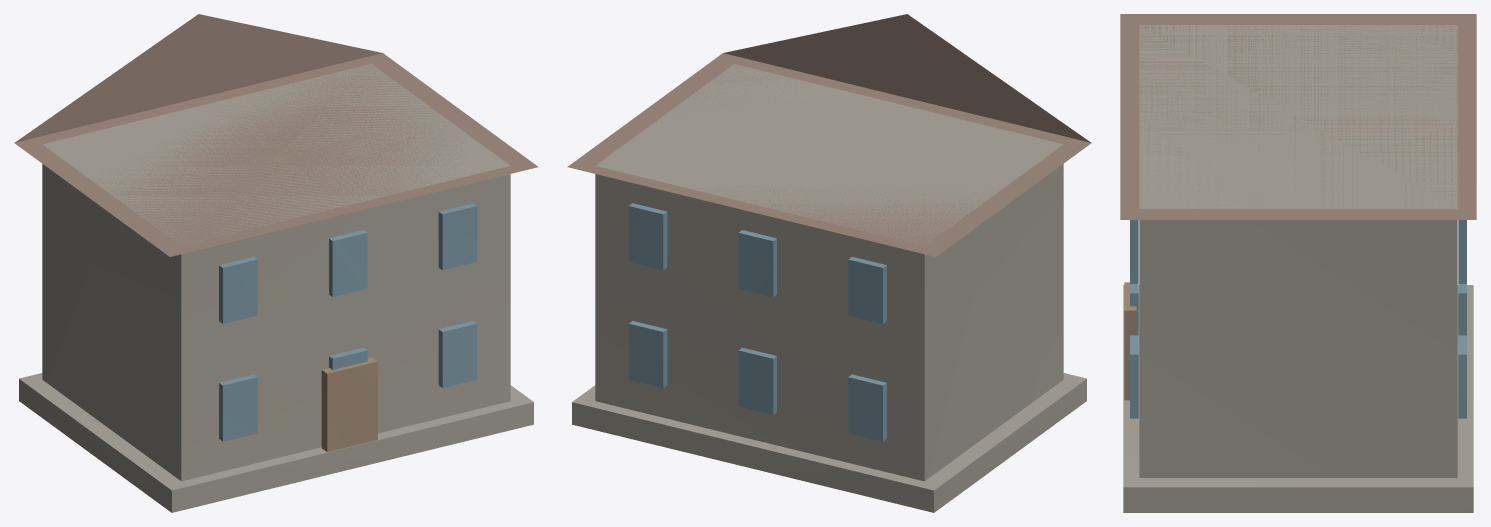
Rendered from townhouse-01.glb.
3 renders of one model, left to right at view 1: azimuth 30°, elevation 25°; view 2: azimuth 150°, elevation 25°; view 3: azimuth 270°, elevation 25°, orthographic. The views are drawn at different scales.
Visible parts, largest first — view 1: world; view 2: world; view 3: world.
Part boxes in pixels (bbox=[...]): world: bbox=[14, 14, 538, 512]; world: bbox=[567, 14, 1091, 512]; world: bbox=[1120, 14, 1476, 512].
Bounding box in the file's own units: 1.38 × 1.22 × 1.01.
